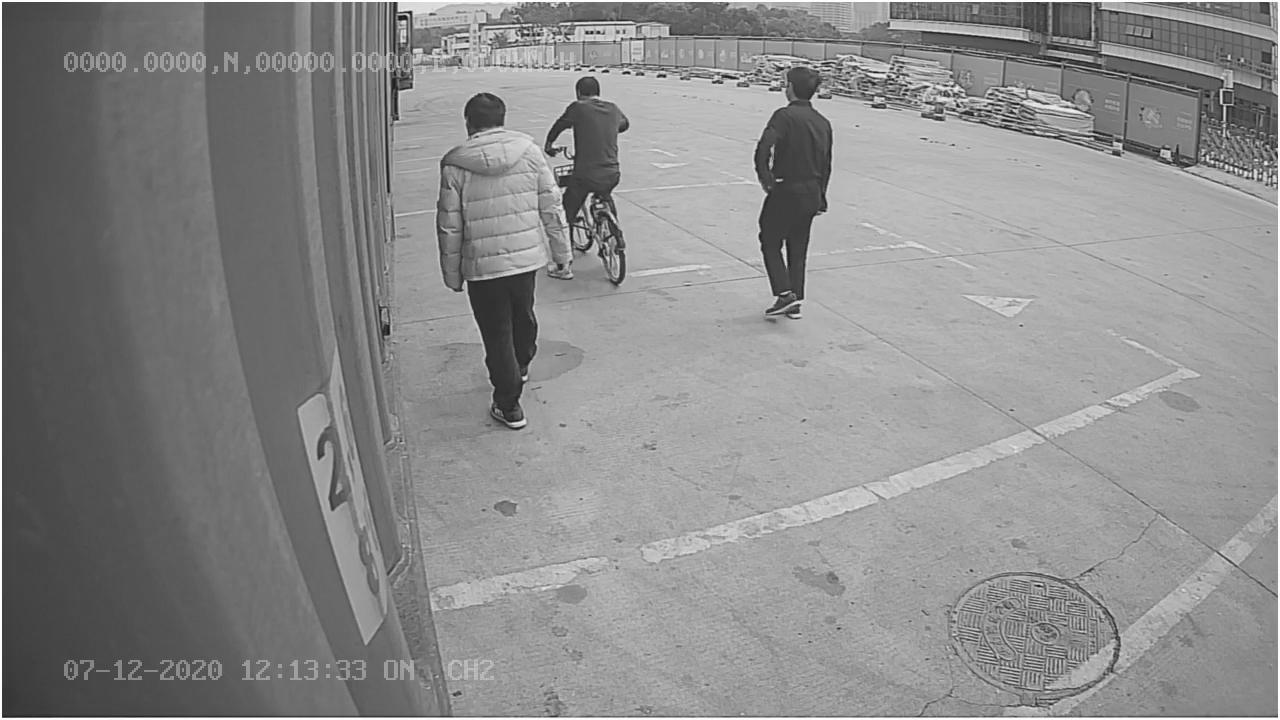person: (752, 60, 836, 323)
